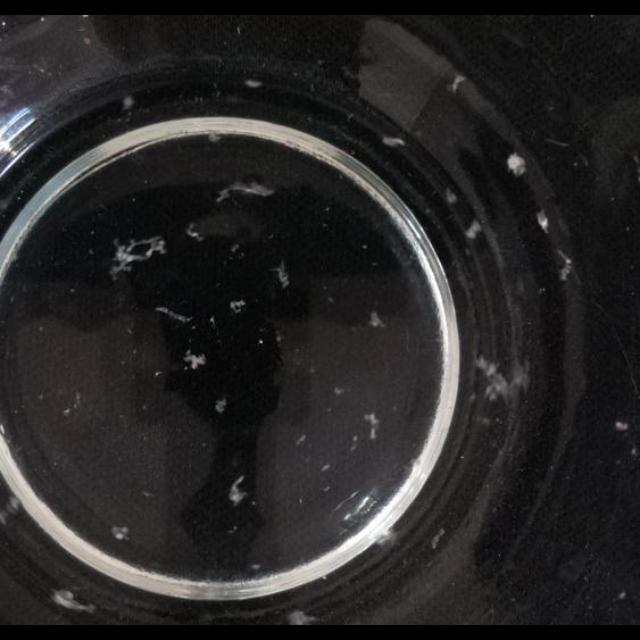Fibre: (108, 235, 168, 278), (475, 354, 515, 402), (51, 590, 95, 614), (362, 411, 380, 443), (270, 260, 290, 288), (185, 350, 208, 370), (506, 154, 526, 176), (186, 222, 207, 242), (558, 255, 574, 281), (288, 609, 314, 625), (367, 310, 385, 328), (466, 220, 482, 240), (110, 526, 130, 542), (536, 210, 550, 232), (381, 136, 405, 148), (450, 75, 466, 93), (230, 298, 247, 314), (444, 188, 458, 205), (215, 398, 227, 414), (122, 94, 134, 110), (208, 132, 222, 144)
microbeads: (4, 496, 20, 516), (430, 528, 444, 550), (350, 434, 360, 452), (294, 434, 306, 446), (615, 421, 629, 431), (333, 386, 345, 396), (320, 463, 330, 473), (231, 243, 241, 253), (250, 563, 262, 571), (210, 316, 217, 328), (322, 483, 331, 492), (154, 369, 164, 377), (63, 407, 71, 415), (618, 592, 626, 600), (258, 339, 264, 345)
